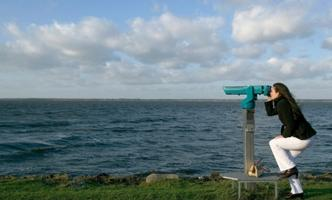person: (265, 83, 316, 200)
